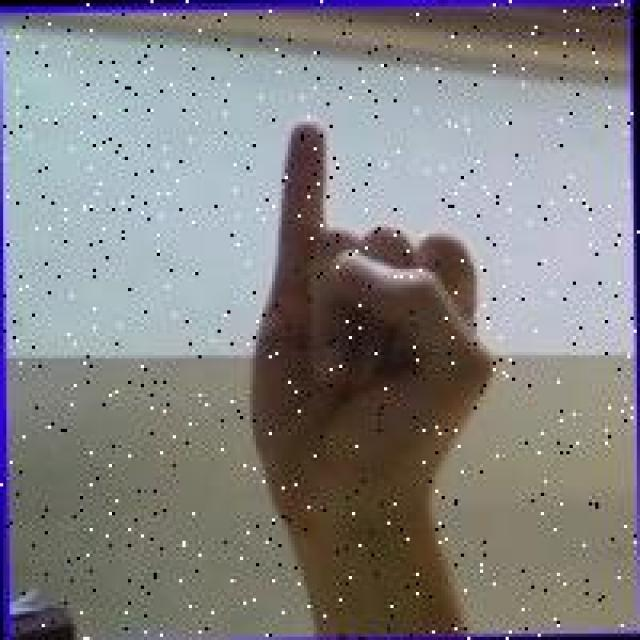I: (242, 114, 523, 536)
